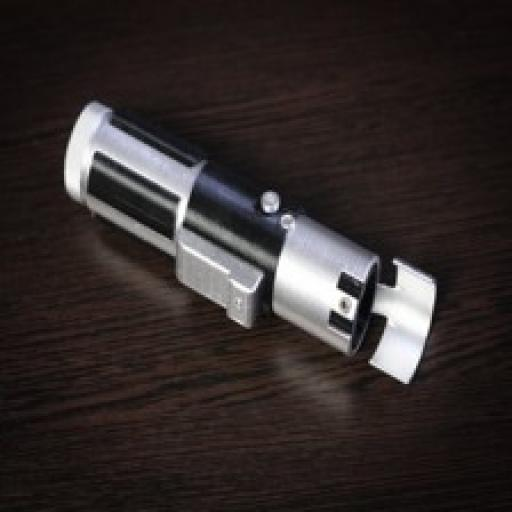lightsaber: (64, 101, 437, 387)
